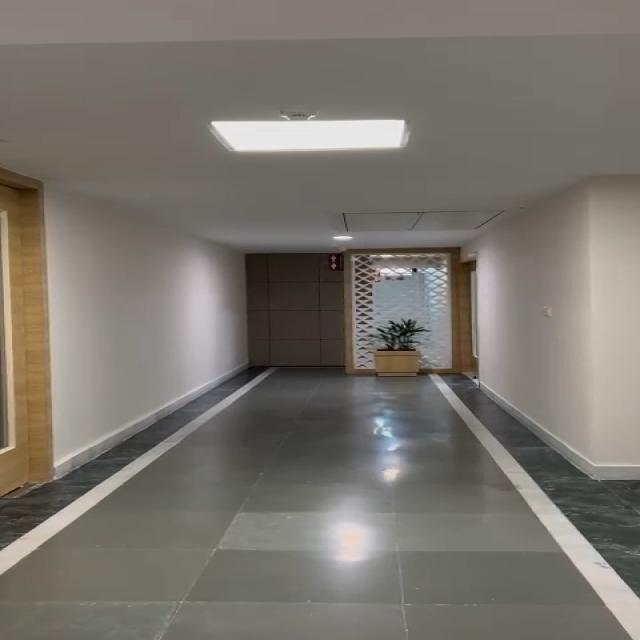floor: (0, 489, 640, 640), (184, 385, 498, 490)
furniture: (358, 310, 436, 385)
wall: (35, 189, 253, 392), (470, 194, 640, 446)
